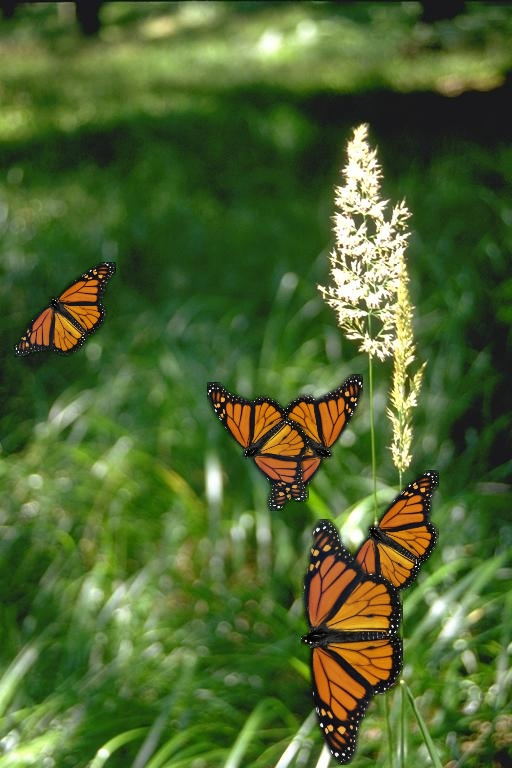danaus_plexippus: (301, 519, 403, 765), (261, 374, 363, 511), (337, 470, 439, 605), (207, 382, 309, 502), (14, 262, 116, 357)
